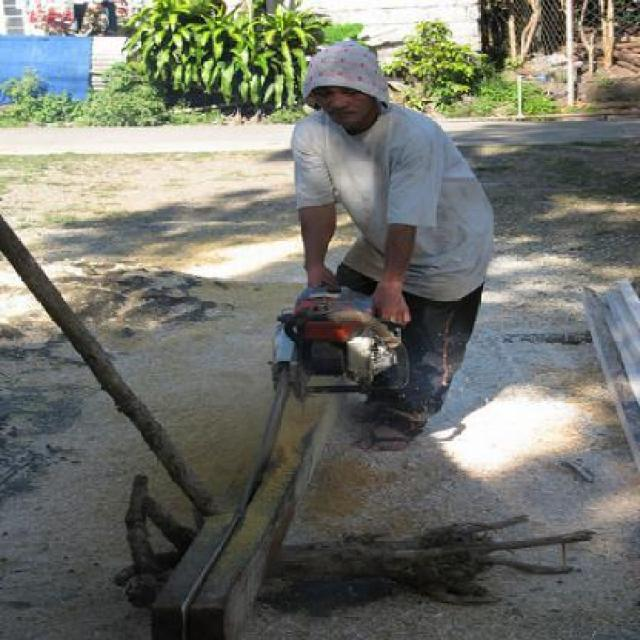Chainsaw: (240, 279, 403, 501)
